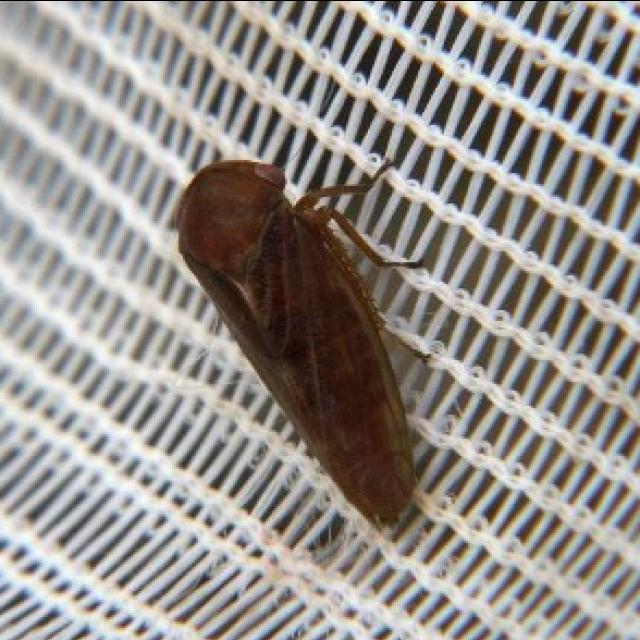brown plant hopper: (176, 159, 429, 527)
